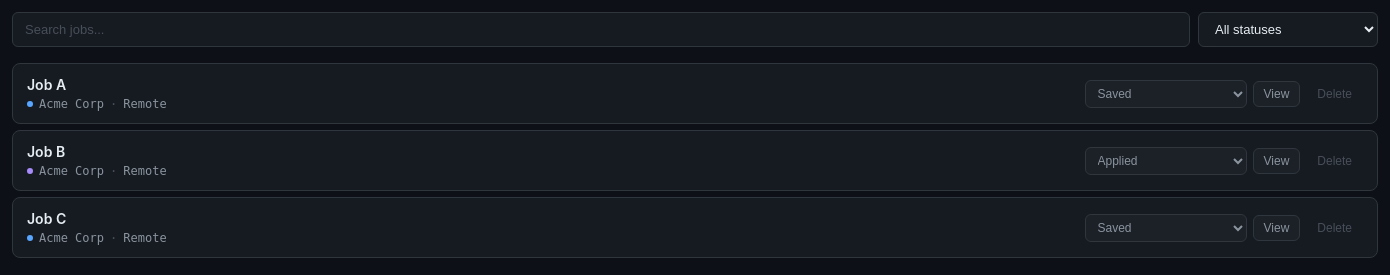
Scenario: JobsTab › filters jobs by status
Select "Applied" in the dropdown with class "status-filter" at {"x": 1288, "y": 30}, box [1198, 12, 1378, 47]
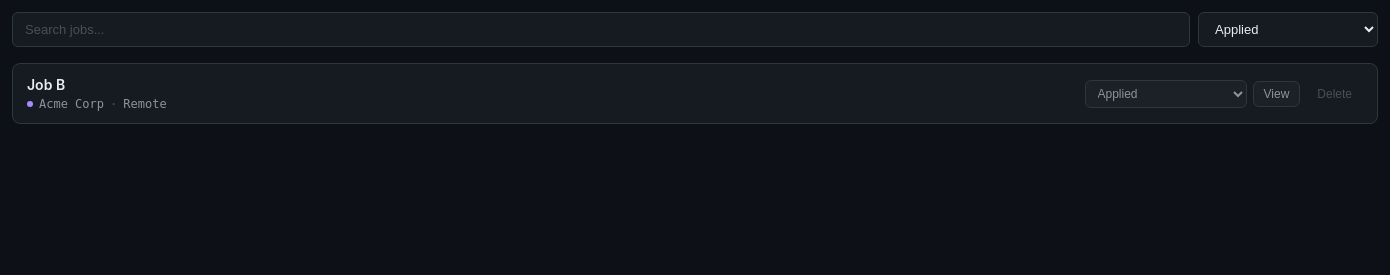
Expected: the text "Job B" is shown, [27, 76, 65, 93]
Now the text "Job A" is gone
Now the text "Job C" is gone
